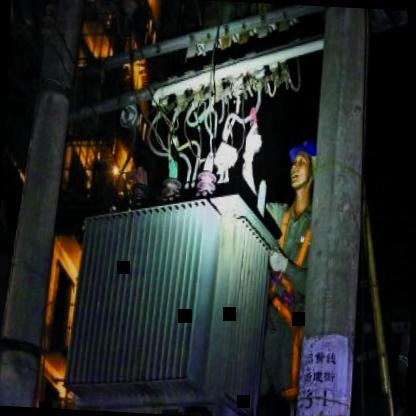helmet: (284, 140, 318, 204)
